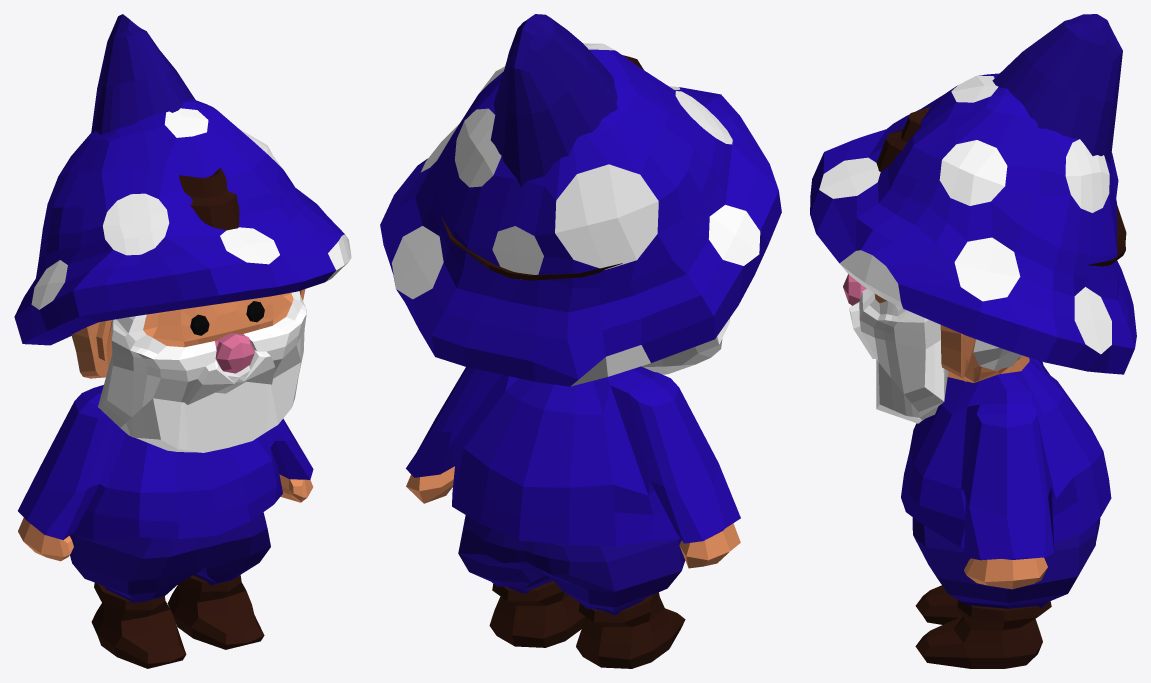
File: BlueGnome.fbx
3 views of the same model, side by side, from view 1: azimuth 30°, elevation 25°; view 2: azimuth 150°, elevation 25°; view 3: azimuth 270°, elevation 25° (orthographic). The views are drawn at different scales.
Visible parts, largest first — view 1: Blue Gnome, Mushroom hat Blue, Gnome hat Blue, Cowboy Hat Blue; view 2: Mushroom hat Blue, Blue Gnome, Gnome hat Blue, Cowboy Hat Blue; view 3: Mushroom hat Blue, Blue Gnome, Gnome hat Blue, Cowboy Hat Blue.
Boxes of the visible parts, x1,y1,x2,y2 form: Blue Gnome: (18,289,313,668); Mushroom hat Blue: (14,99,351,345); Gnome hat Blue: (91,14,195,134); Cowboy Hat Blue: (179,168,239,230); Mushroom hat Blue: (380,43,781,386); Blue Gnome: (406,318,740,668); Gnome hat Blue: (490,14,617,186); Cowboy Hat Blue: (441,55,643,280); Mushroom hat Blue: (810,73,1136,374); Blue Gnome: (843,274,1111,668); Gnome hat Blue: (992,14,1122,165); Cowboy Hat Blue: (876,107,1126,266).
Size of the model in its own units: 346 by 308 by 643.
